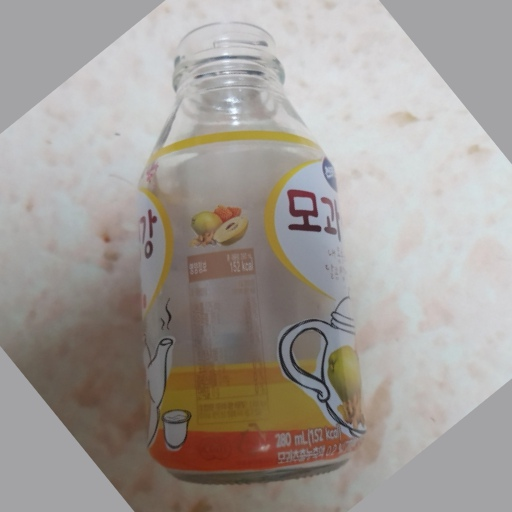Glass_4: (130, 16, 367, 482)
